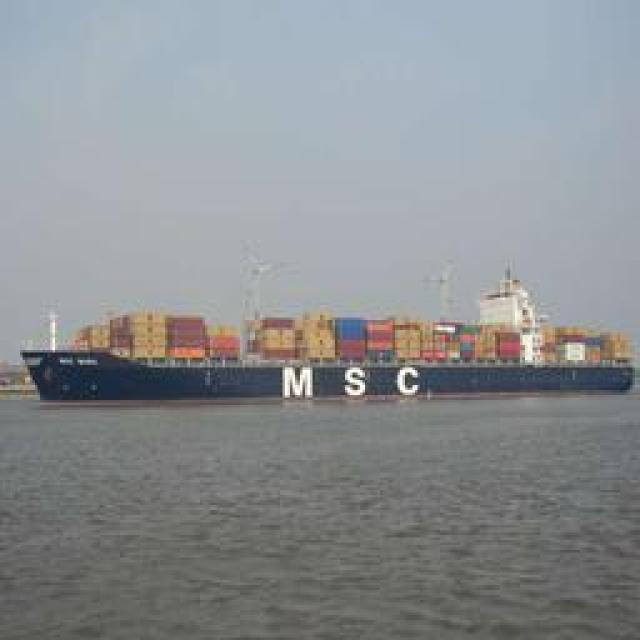ship2: (20, 243, 634, 404)
